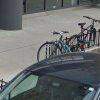Bicycle: (36, 14, 99, 56)
